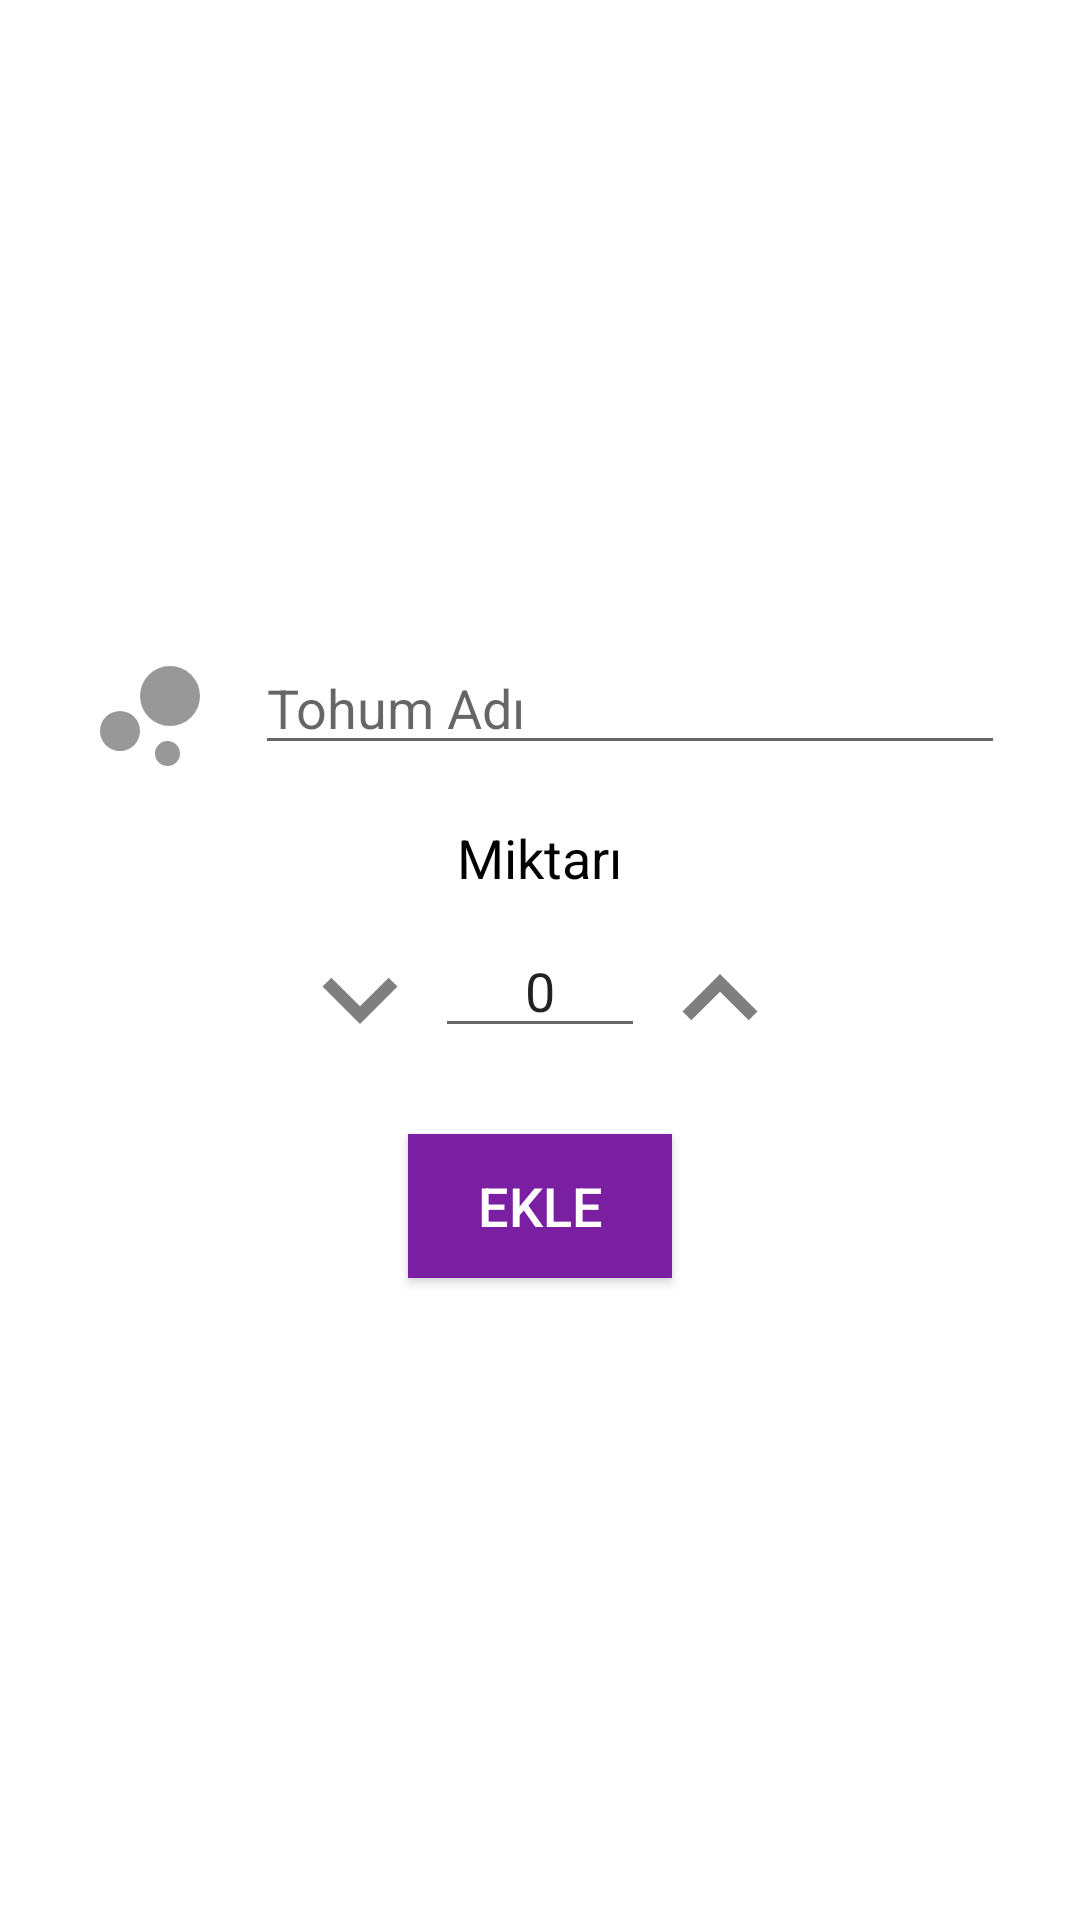

Icon bounding boxes for this 1080w x 1920h phone screenshot, format (x1, y1, x2, y2):
Arttır: (682, 974, 758, 1020)
Azalt: (322, 978, 398, 1024)
